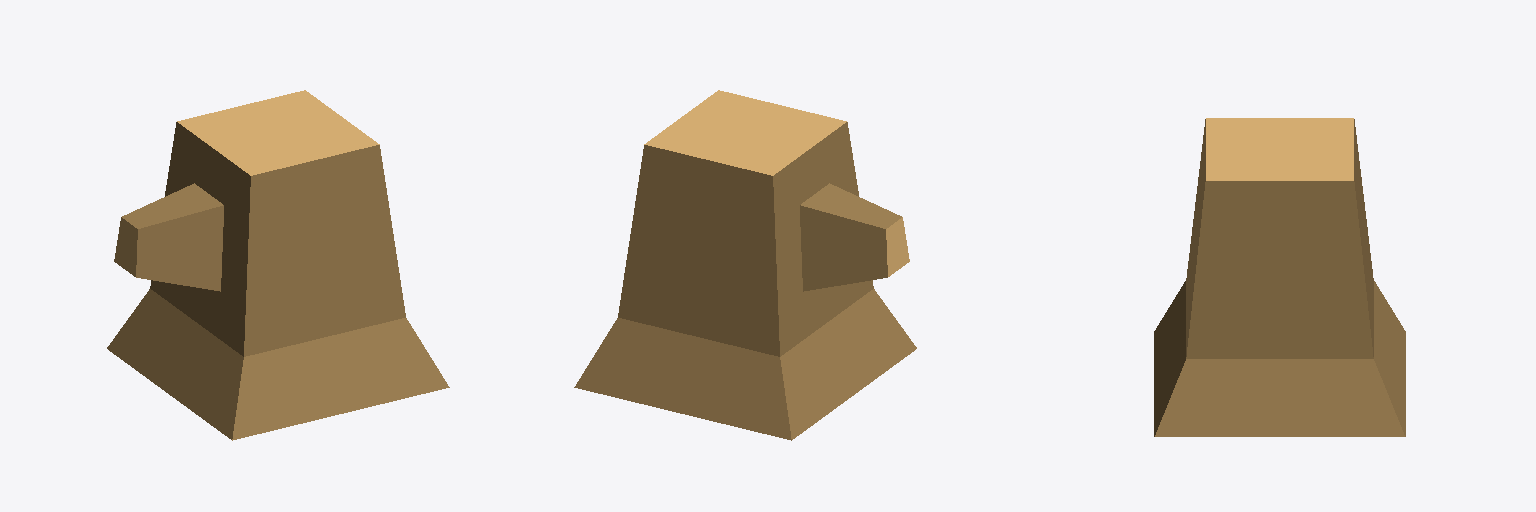
Rendered from Trunk_Alt_02.obj.
3 renders of one model, left to right at view 1: azimuth 30°, elevation 25°; view 2: azimuth 150°, elevation 25°; view 3: azimuth 270°, elevation 25°, orthographic.
Visible parts, largest first — view 1: Mesh1_Trunk_Alt_Model.001; view 2: Mesh1_Trunk_Alt_Model.001; view 3: Mesh1_Trunk_Alt_Model.001.
Part boxes in pixels (bbox=[...]): Mesh1_Trunk_Alt_Model.001: bbox=[107, 90, 449, 440]; Mesh1_Trunk_Alt_Model.001: bbox=[574, 90, 916, 440]; Mesh1_Trunk_Alt_Model.001: bbox=[1154, 118, 1405, 436].
Bounding box in the file's own units: 0.9675 × 0.83 × 0.8037.